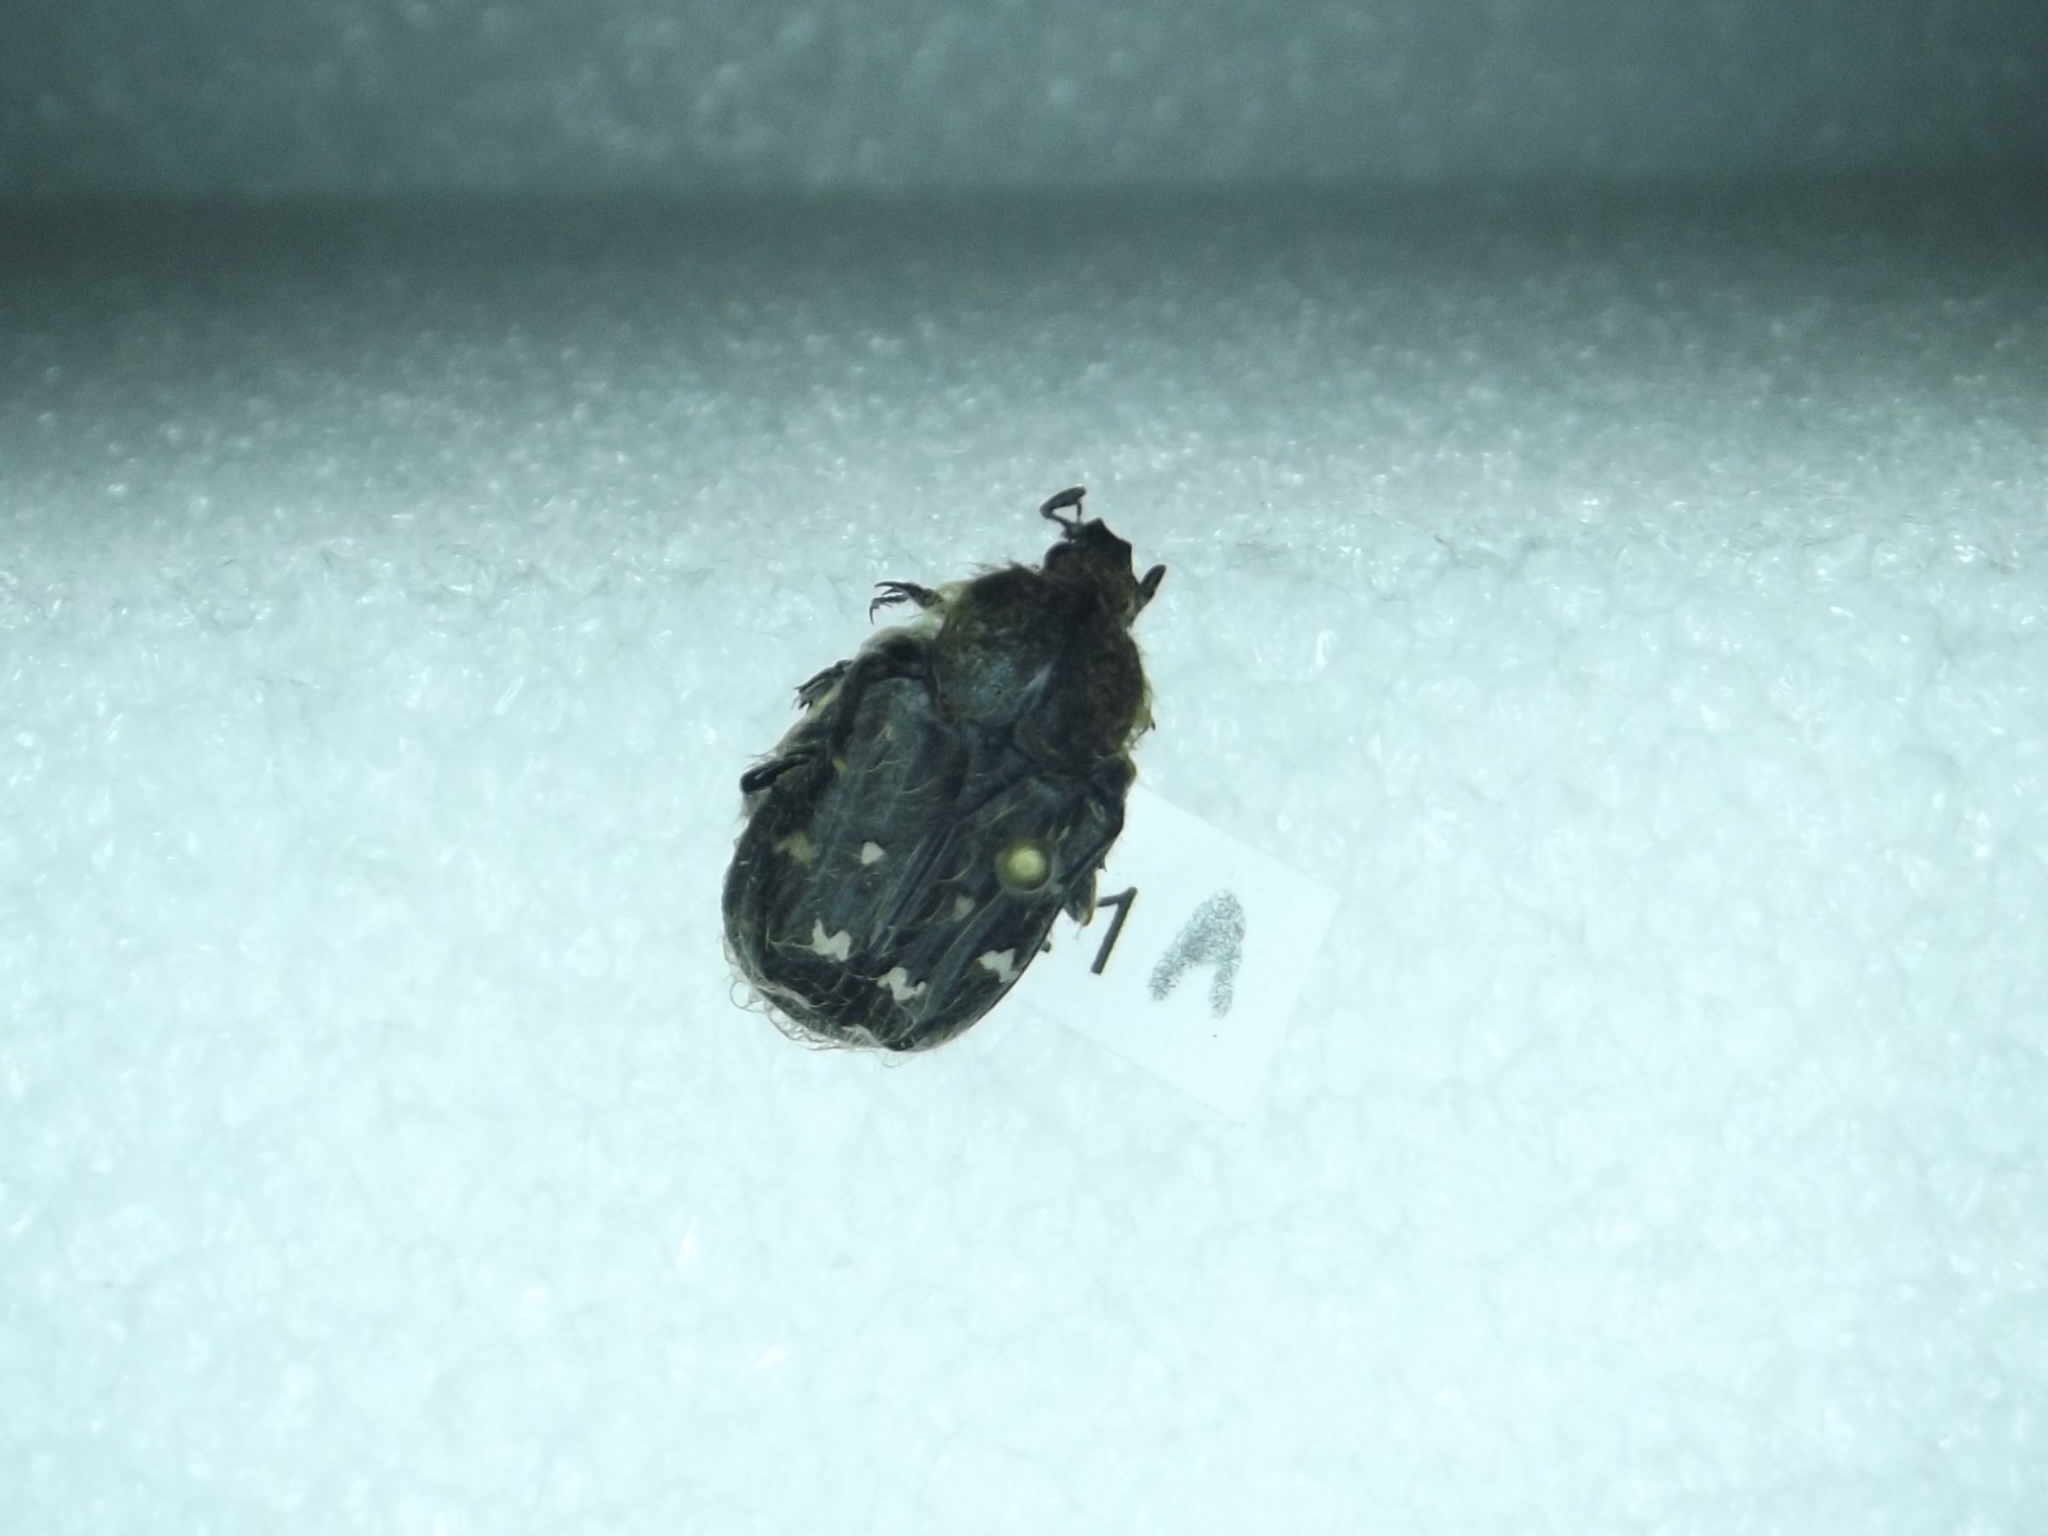Tropinota_senicula: (705, 481, 1222, 1078)
